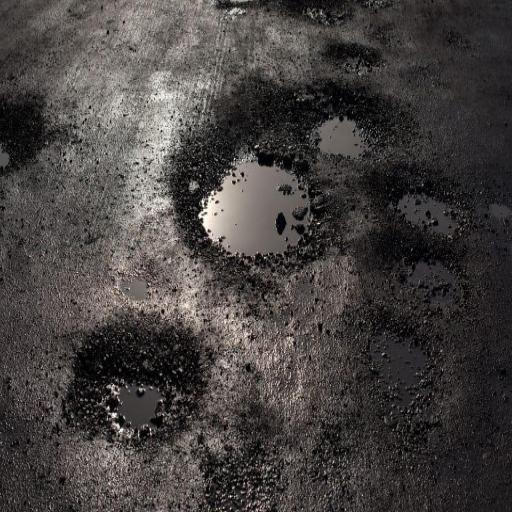hole: (189, 140, 308, 274), (79, 305, 191, 446), (314, 74, 379, 170)
